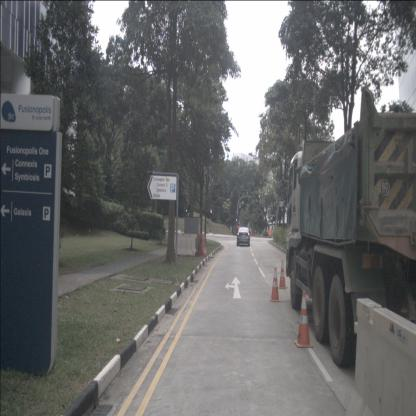movable_object-barrier: (172, 232, 197, 258), (199, 232, 208, 258)
movable_object-trafficcone: (296, 288, 314, 352), (269, 263, 280, 305), (279, 256, 287, 292)
vehicle-car: (237, 227, 250, 247)
vehicle-truck: (285, 86, 416, 373)
